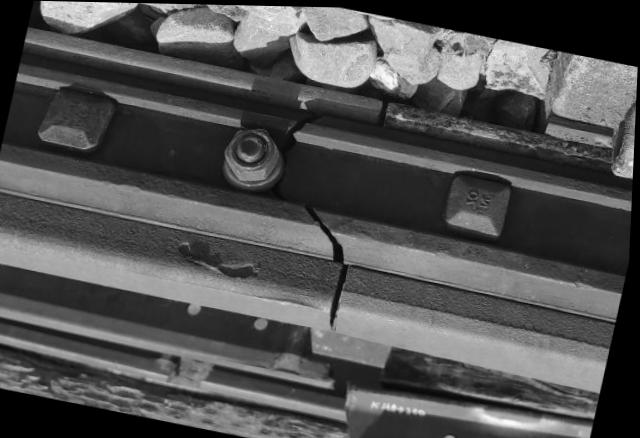person: (254, 218, 423, 379), (329, 65, 438, 164)
